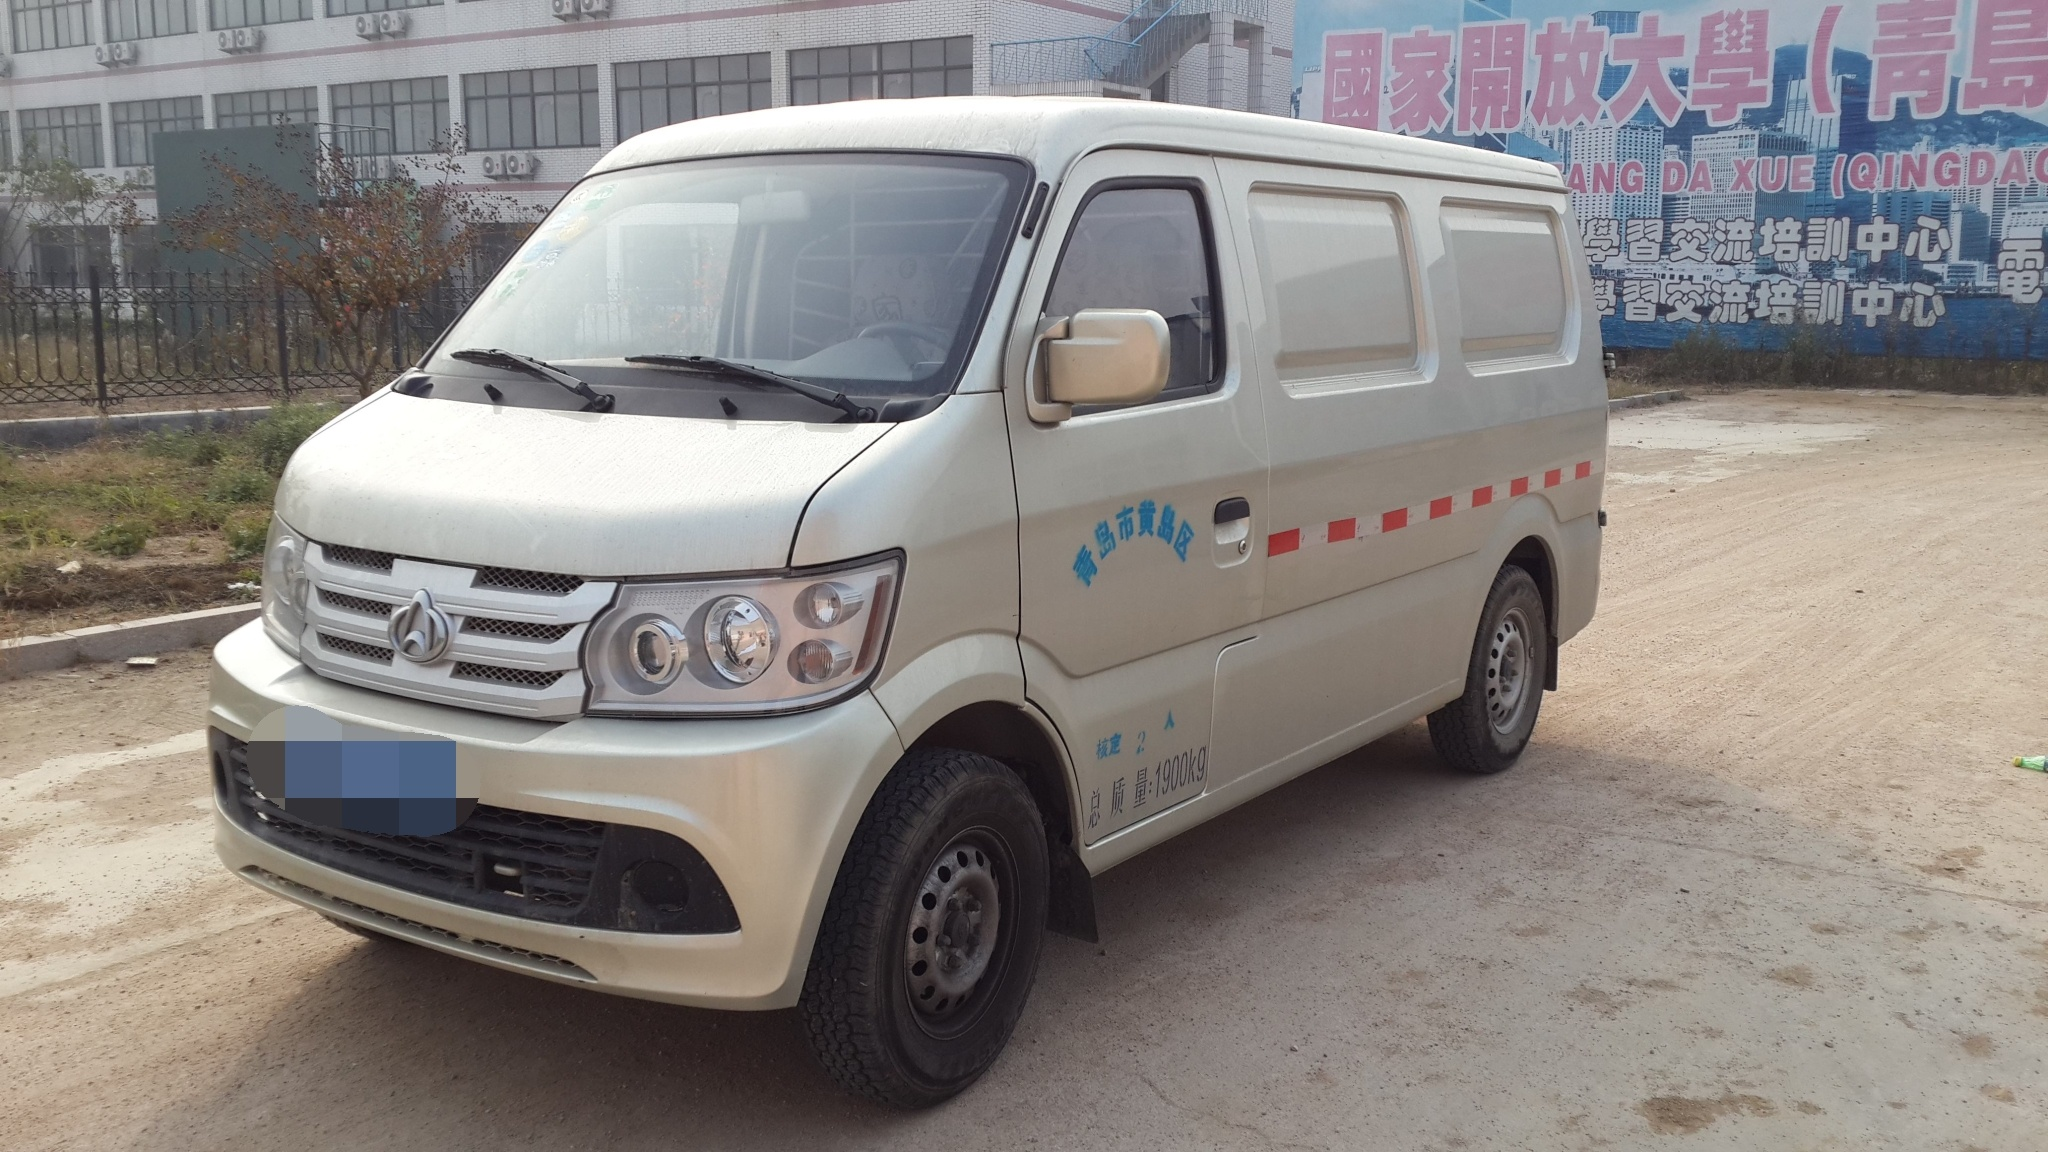minibus: (219, 107, 1623, 1059)
